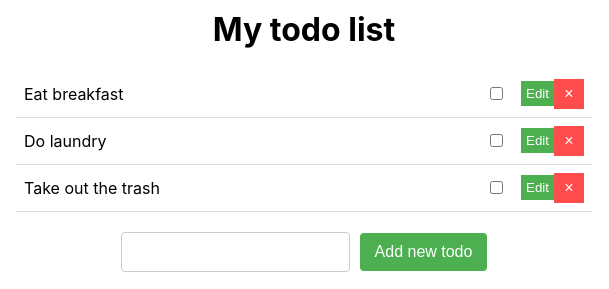
it: <App /> tests › should remove a todo item
Expected: the text "Take out the trash" is shown, x1=24 y1=178 x2=160 y2=198
# Click the remove button
What coordinates should you click on to do the following:
click the button with test id "close-btn-3"
I would click on:
 (569, 188)
Its box is x1=554 y1=173 x2=584 y2=203.
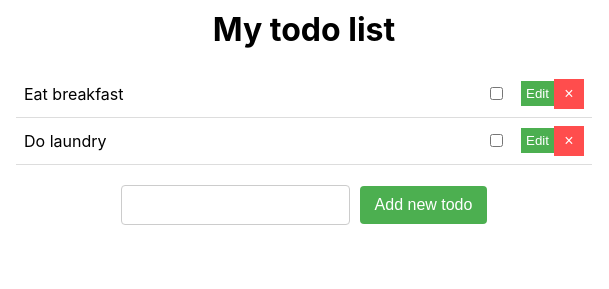
Expected: the text "Take out the trash" is gone
